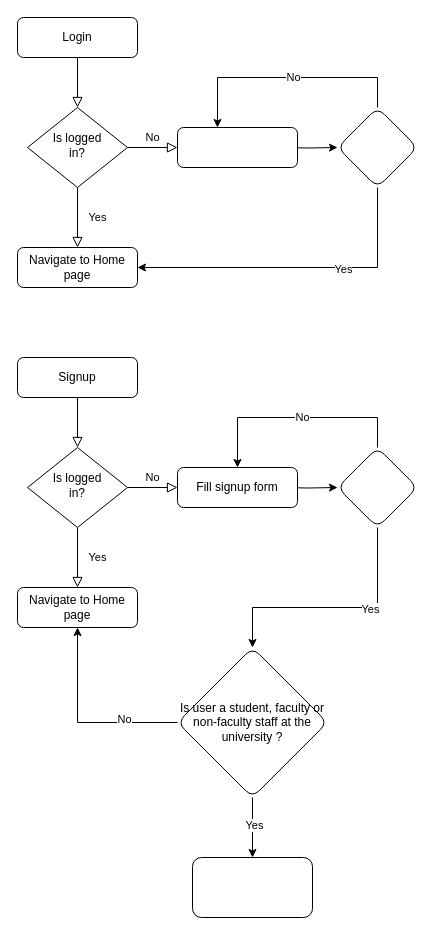
Some shapes in this 435 by 935 pixel diagram are drawn without their labels. The centre of each missing label's shape, as x and y in pixels:
Credentials correct ?: the point at 377,147
Credentials valid ?: the point at 377,487
Fill login form: the point at 237,147
Management team verifies: the point at 252,887
